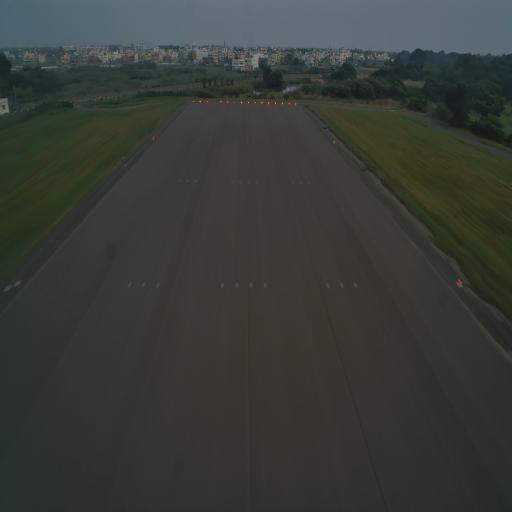off: (12, 273, 22, 291), (218, 278, 226, 293), (337, 276, 345, 290), (262, 278, 269, 293), (140, 278, 148, 291), (351, 278, 358, 292), (126, 277, 134, 289), (153, 280, 161, 289), (248, 281, 254, 291), (325, 279, 330, 291), (234, 278, 238, 292), (176, 178, 181, 184), (246, 179, 250, 186), (238, 179, 243, 184), (254, 178, 258, 184), (306, 180, 310, 186), (186, 178, 189, 183), (194, 179, 197, 183), (292, 180, 294, 186), (299, 181, 302, 185), (231, 179, 233, 184)
on: (454, 275, 462, 289)
